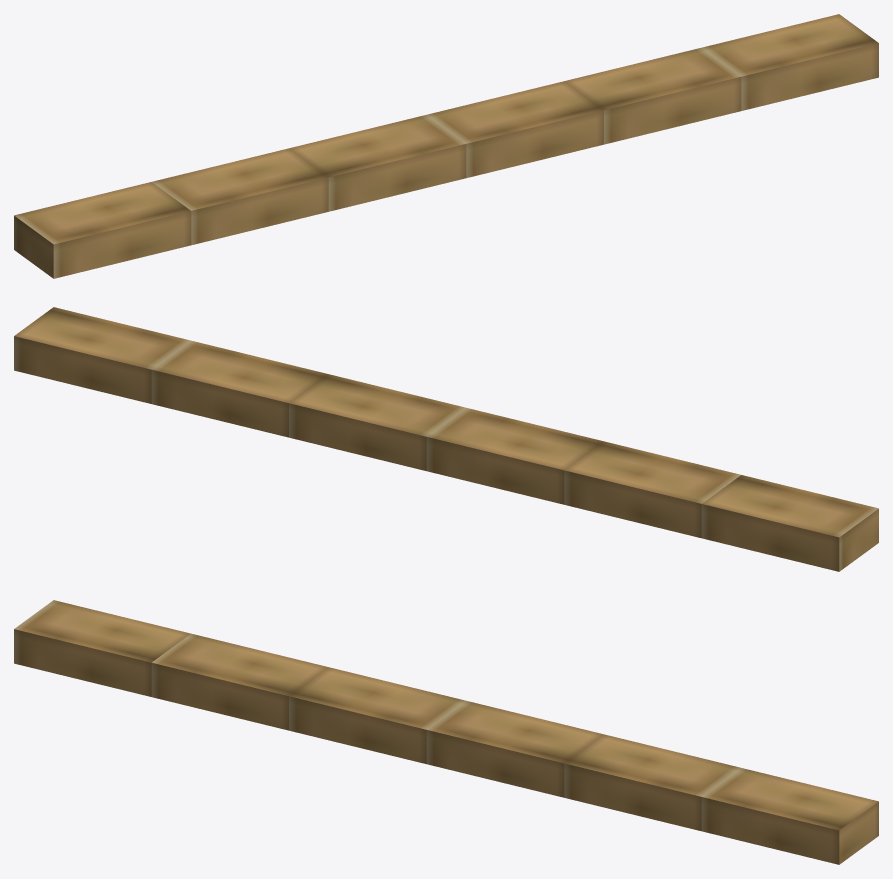
File: Plank_Block.fbx
3 renders of one model, top to bottom at view 1: azimuth 30°, elevation 25°; view 2: azimuth 150°, elevation 25°; view 3: azimuth 330°, elevation 25°, orthographic.
Visible parts, largest first — view 1: Plank_Block; view 2: Plank_Block; view 3: Plank_Block.
Part boxes in pixels (x1,y1,x2,y2): Plank_Block: (14, 14, 878, 278); Plank_Block: (14, 307, 878, 571); Plank_Block: (14, 600, 878, 864).
Size of the model in its own units: 150 by 5.98 by 12.5.
Materials: 1 (1 with a texture image).
